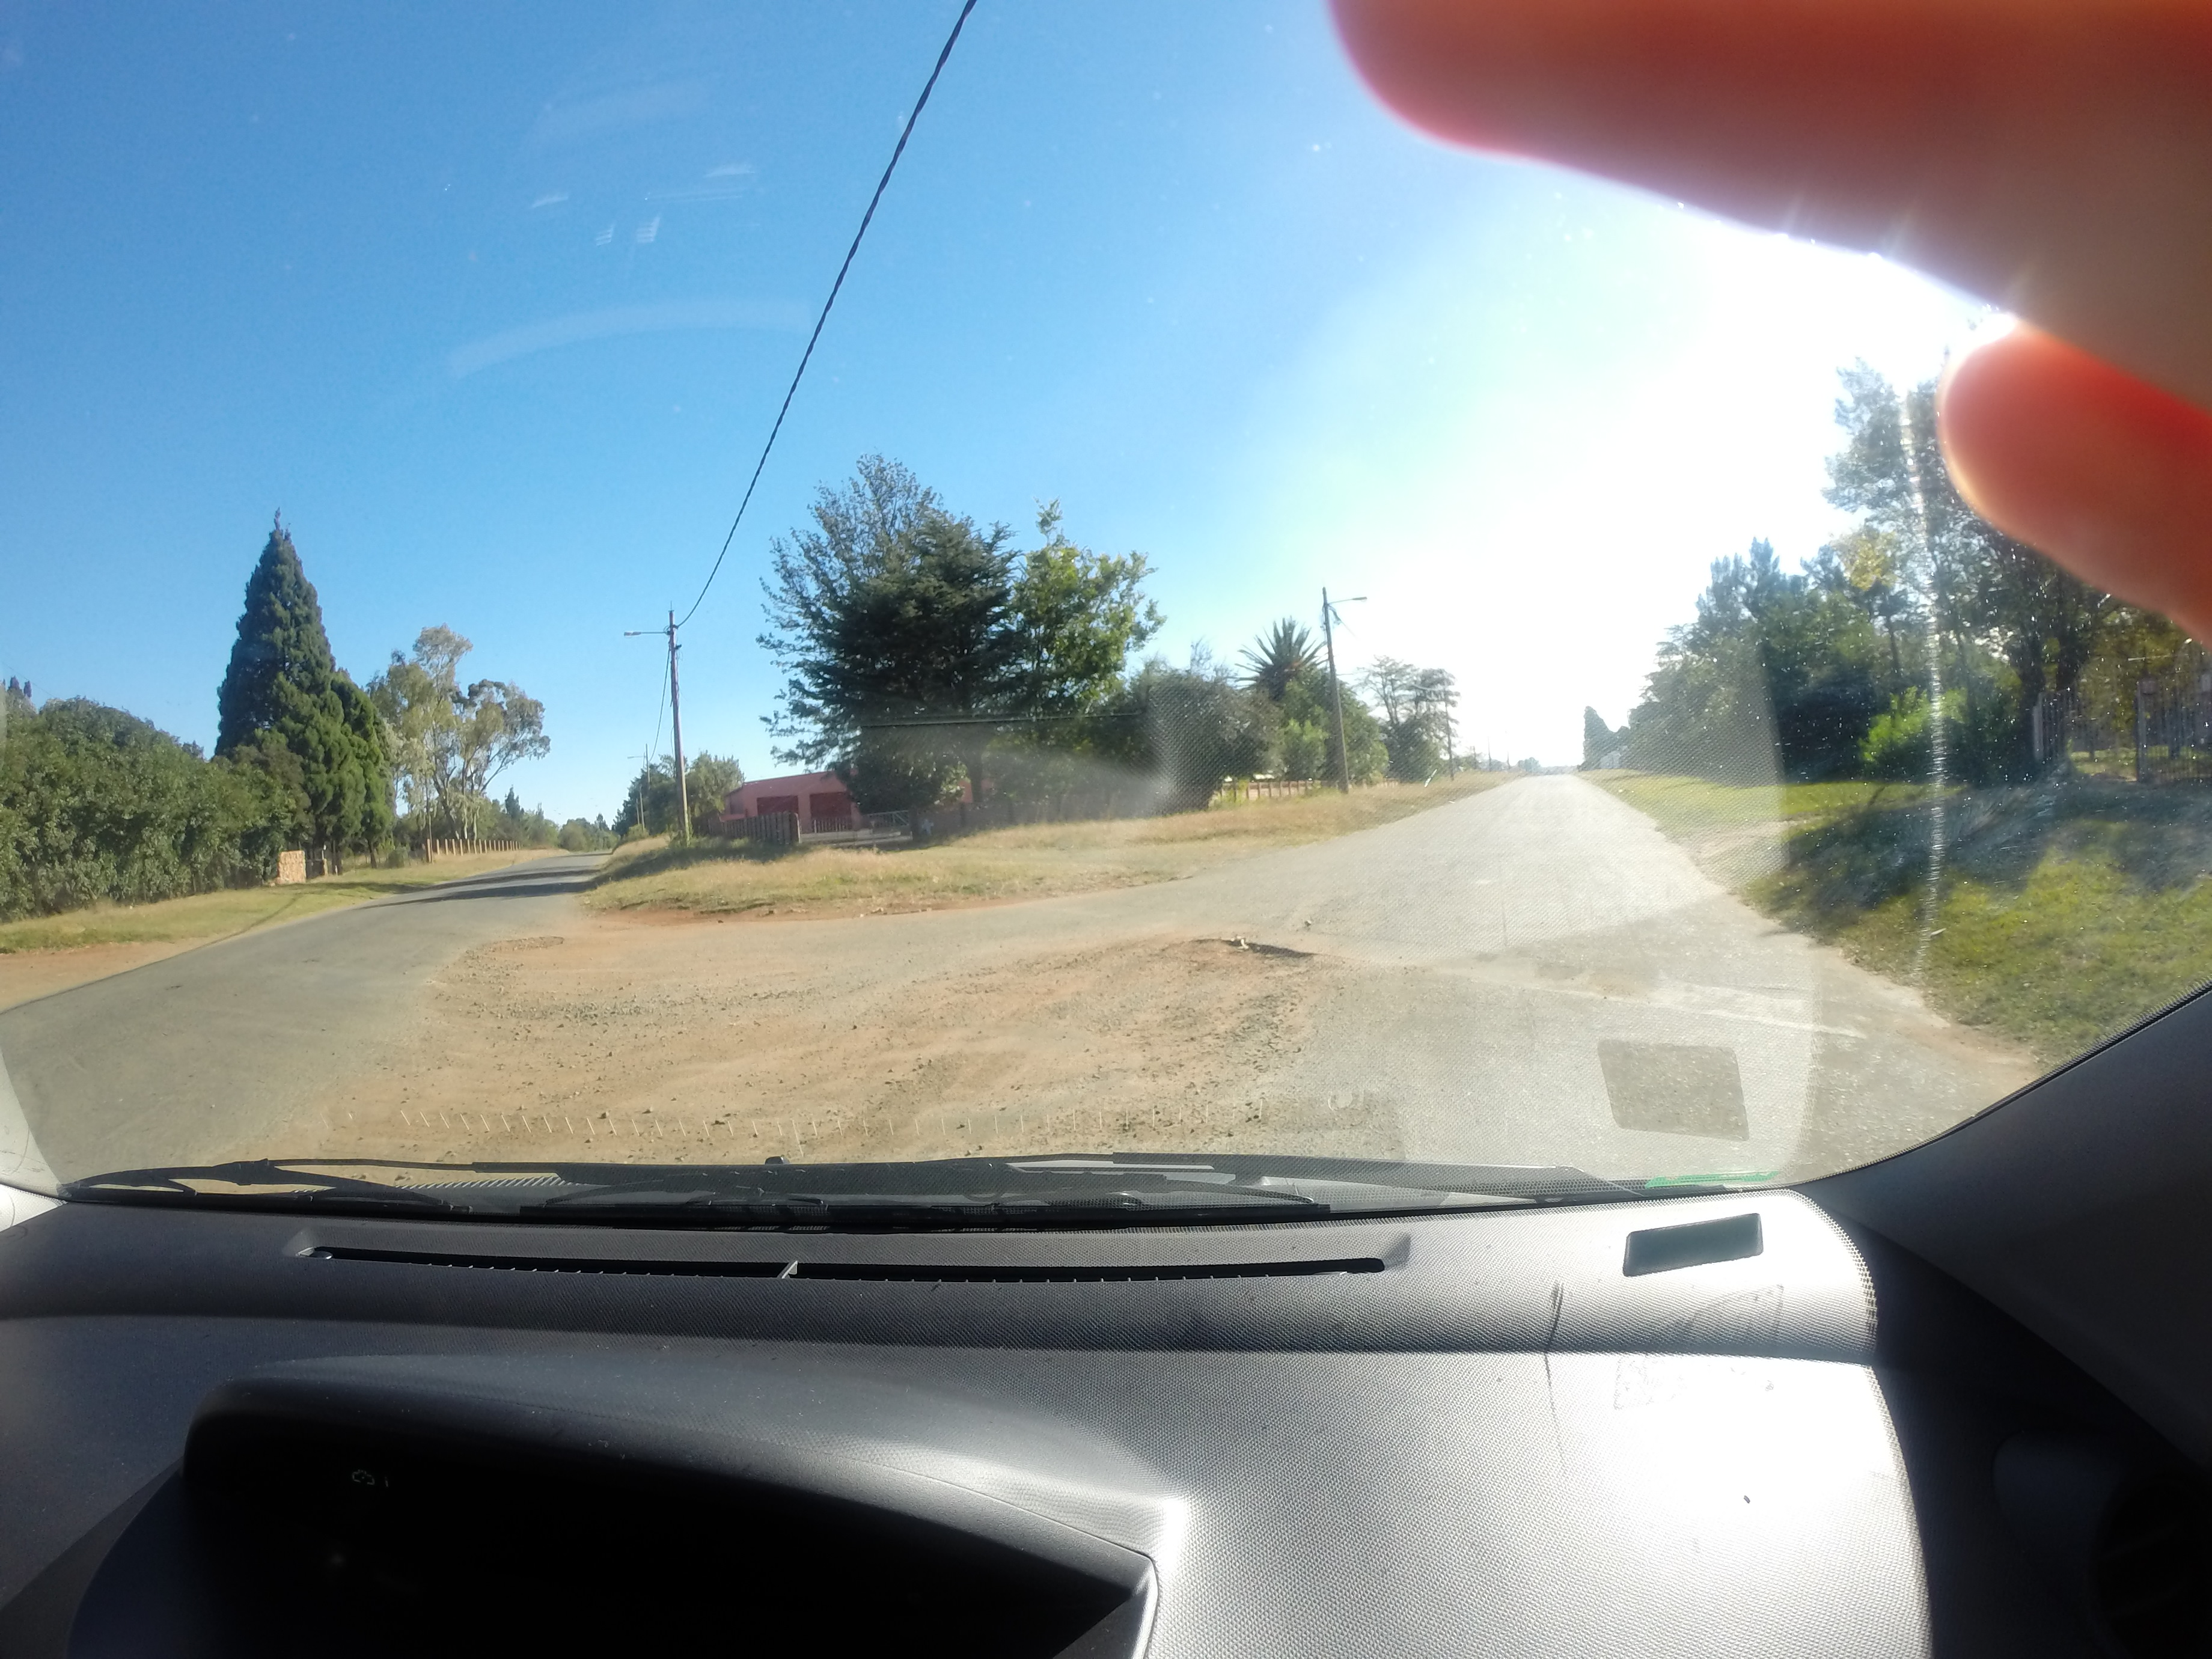pothole: (1033, 906, 1439, 1063)
